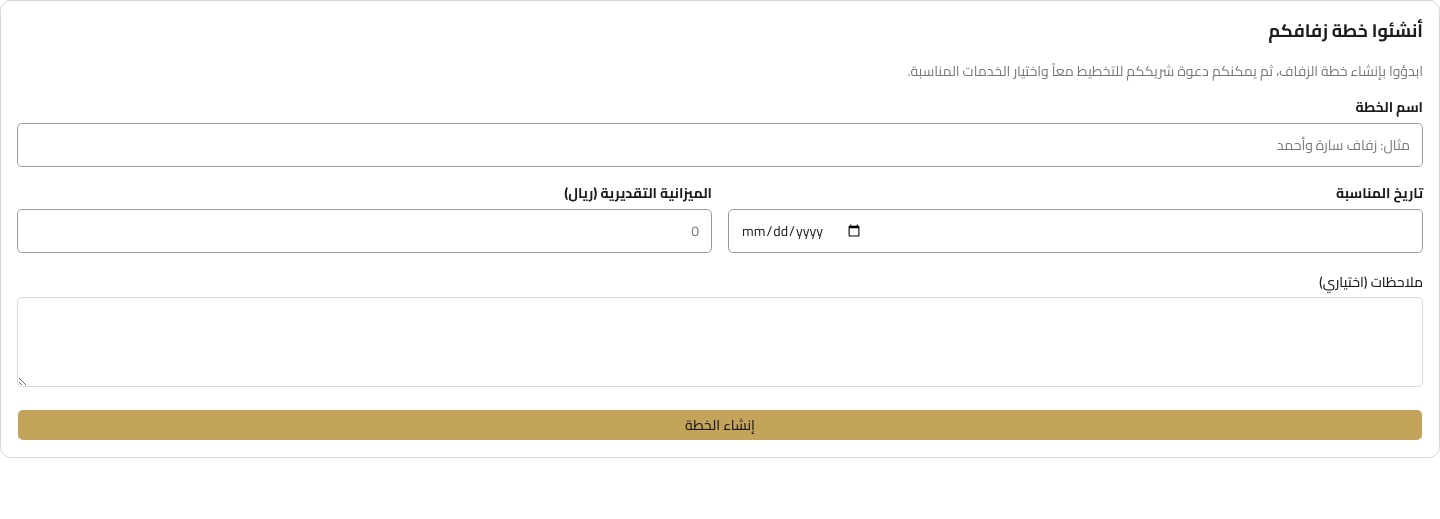
Test: CreatePlanForm › blocks submission and explains why when the form is empty
What coordinates should you click on to do the following:
click the button "إنشاء الخطة"
I would click on:
 (720, 425)
Its box is [17, 409, 1423, 441].
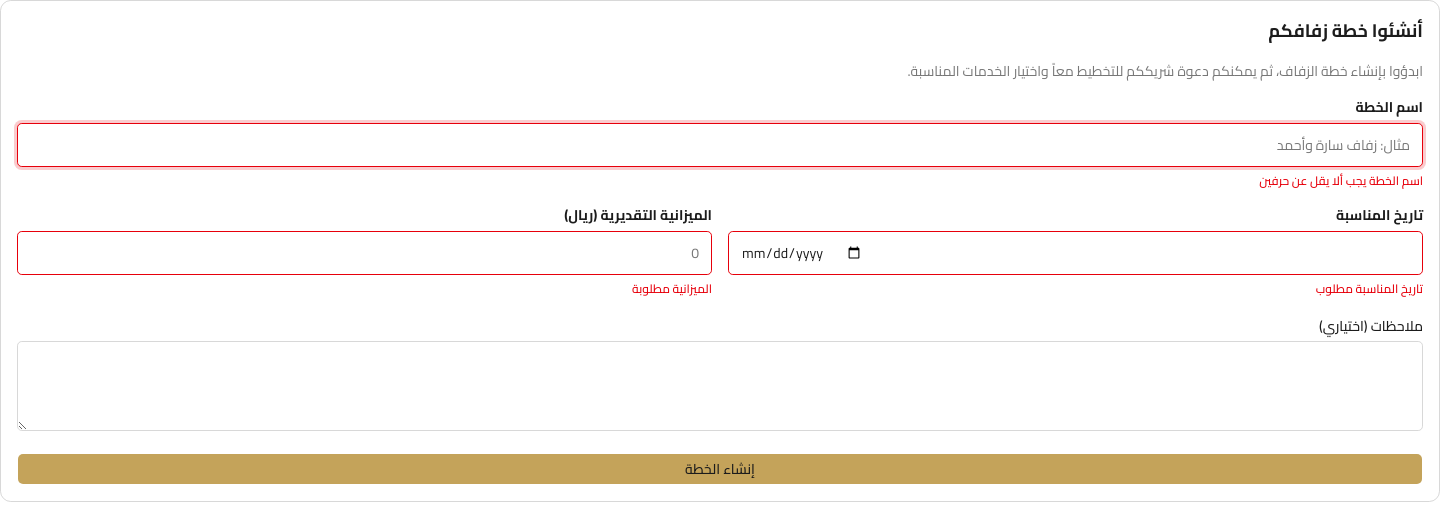
Expected: the text "اسم الخطة يجب ألا يقل عن حرفين" is shown, [1259, 169, 1423, 192]
